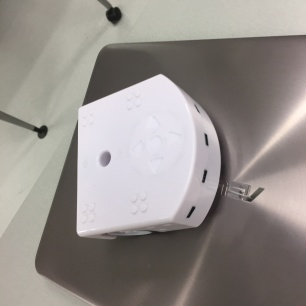thymio: (62, 72, 222, 240)
